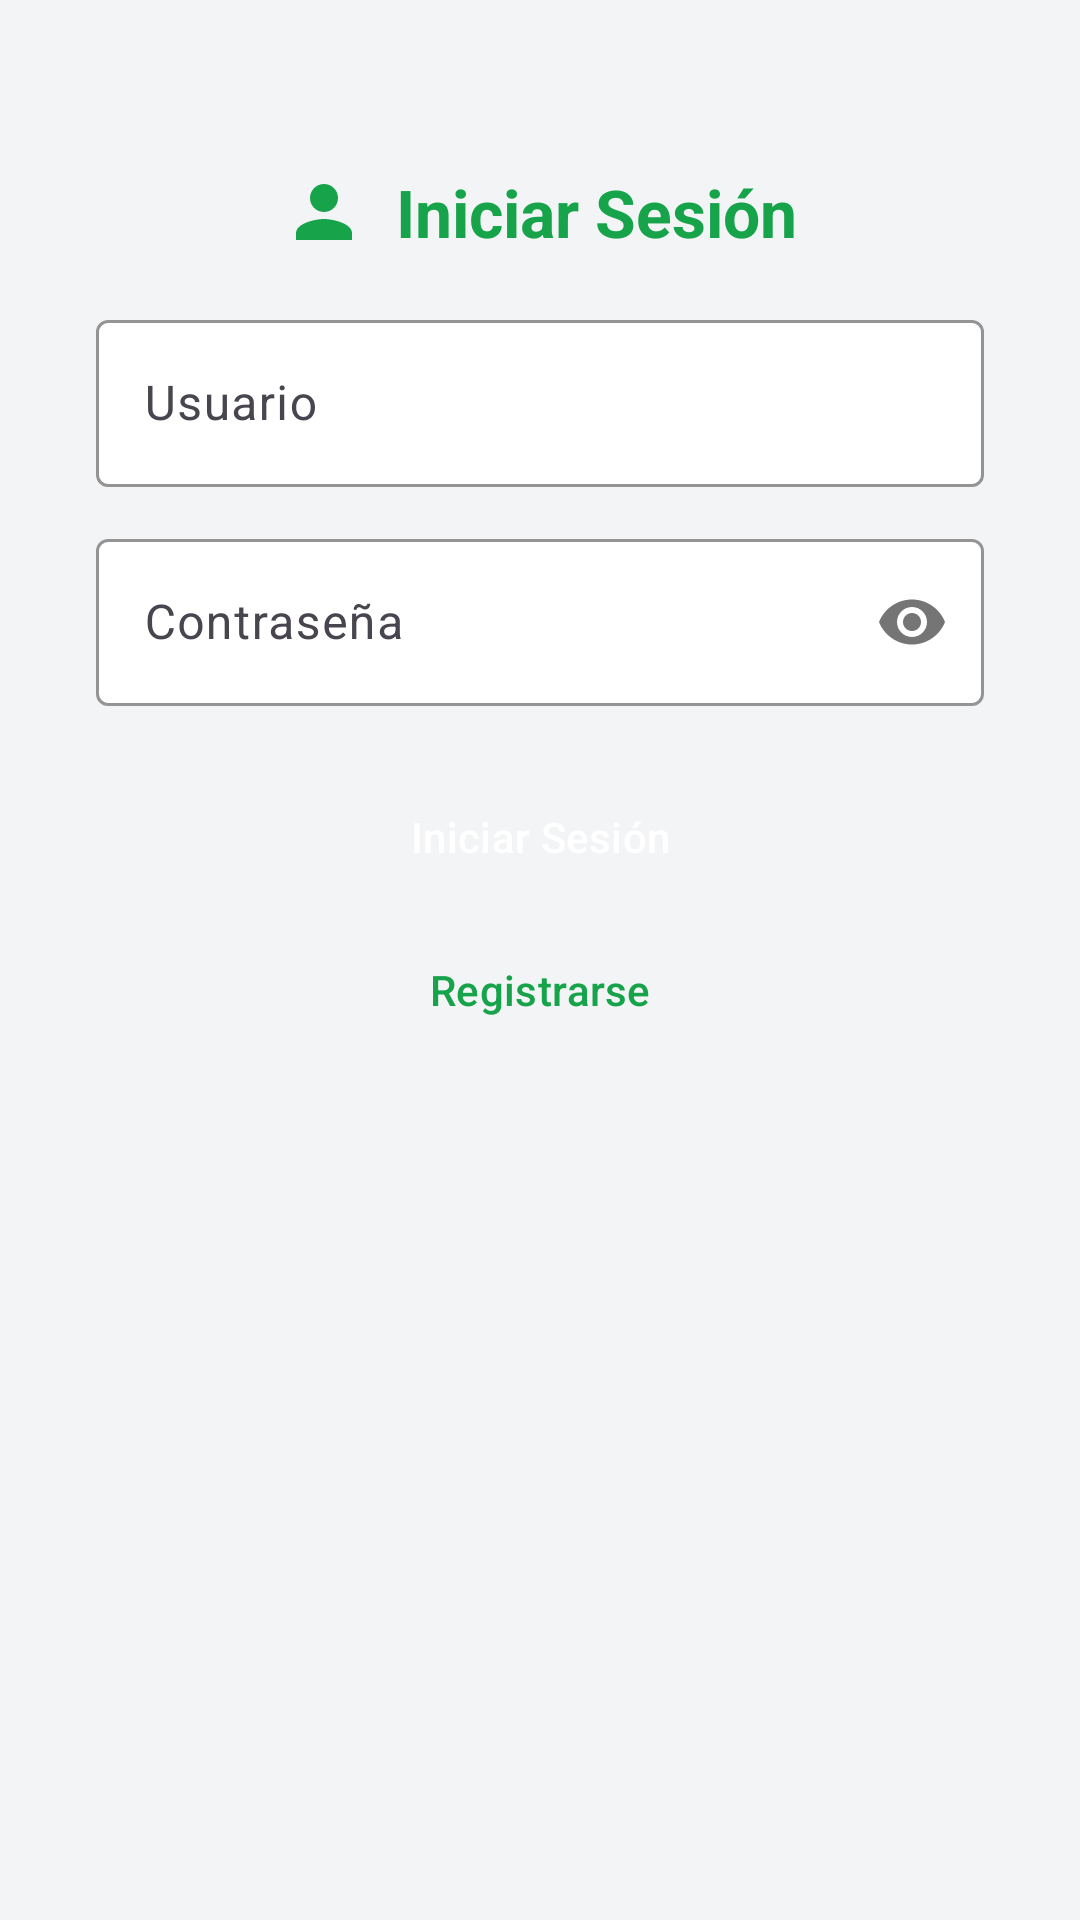

Icon click points for this 1080×1920 phone screenshot, format (x,y):
login: (324,212)
